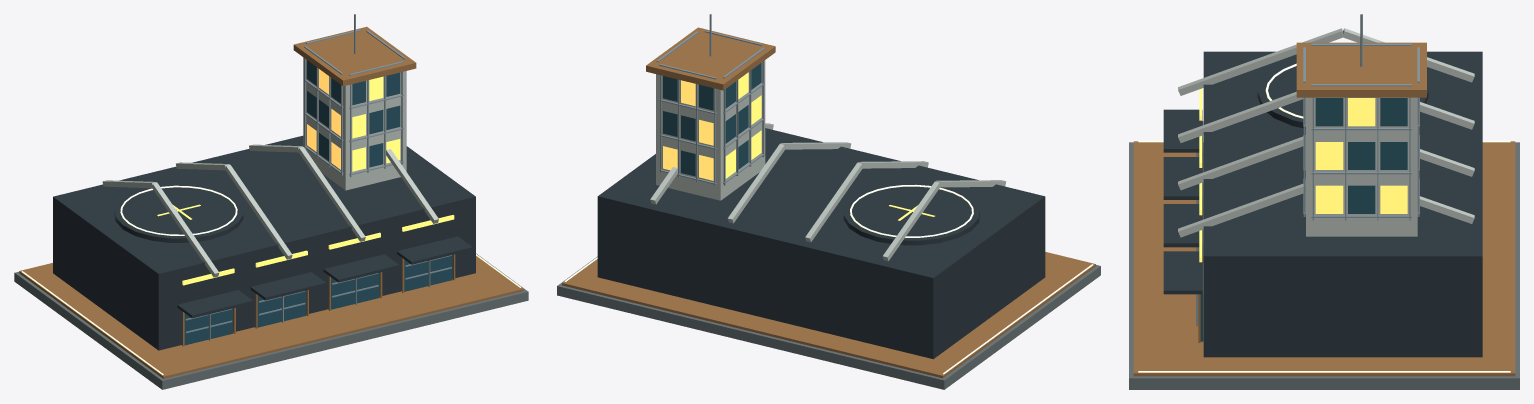
File: mission-terminal.lod1.glb
3 views of the same model, side by side, from view 1: azimuth 30°, elevation 25°; view 2: azimuth 150°, elevation 25°; view 3: azimuth 270°, elevation 25° (orthographic). The views are drawn at different scales.
Parts seen in each view (by area): view 1: structure; view 2: structure; view 3: structure.
Boxes of the visible parts, bbox=[...] form: structure: bbox=[14, 14, 528, 389]; structure: bbox=[557, 14, 1100, 389]; structure: bbox=[1129, 14, 1519, 389].
Bounding box in the file's own units: 30 × 19 × 21.
